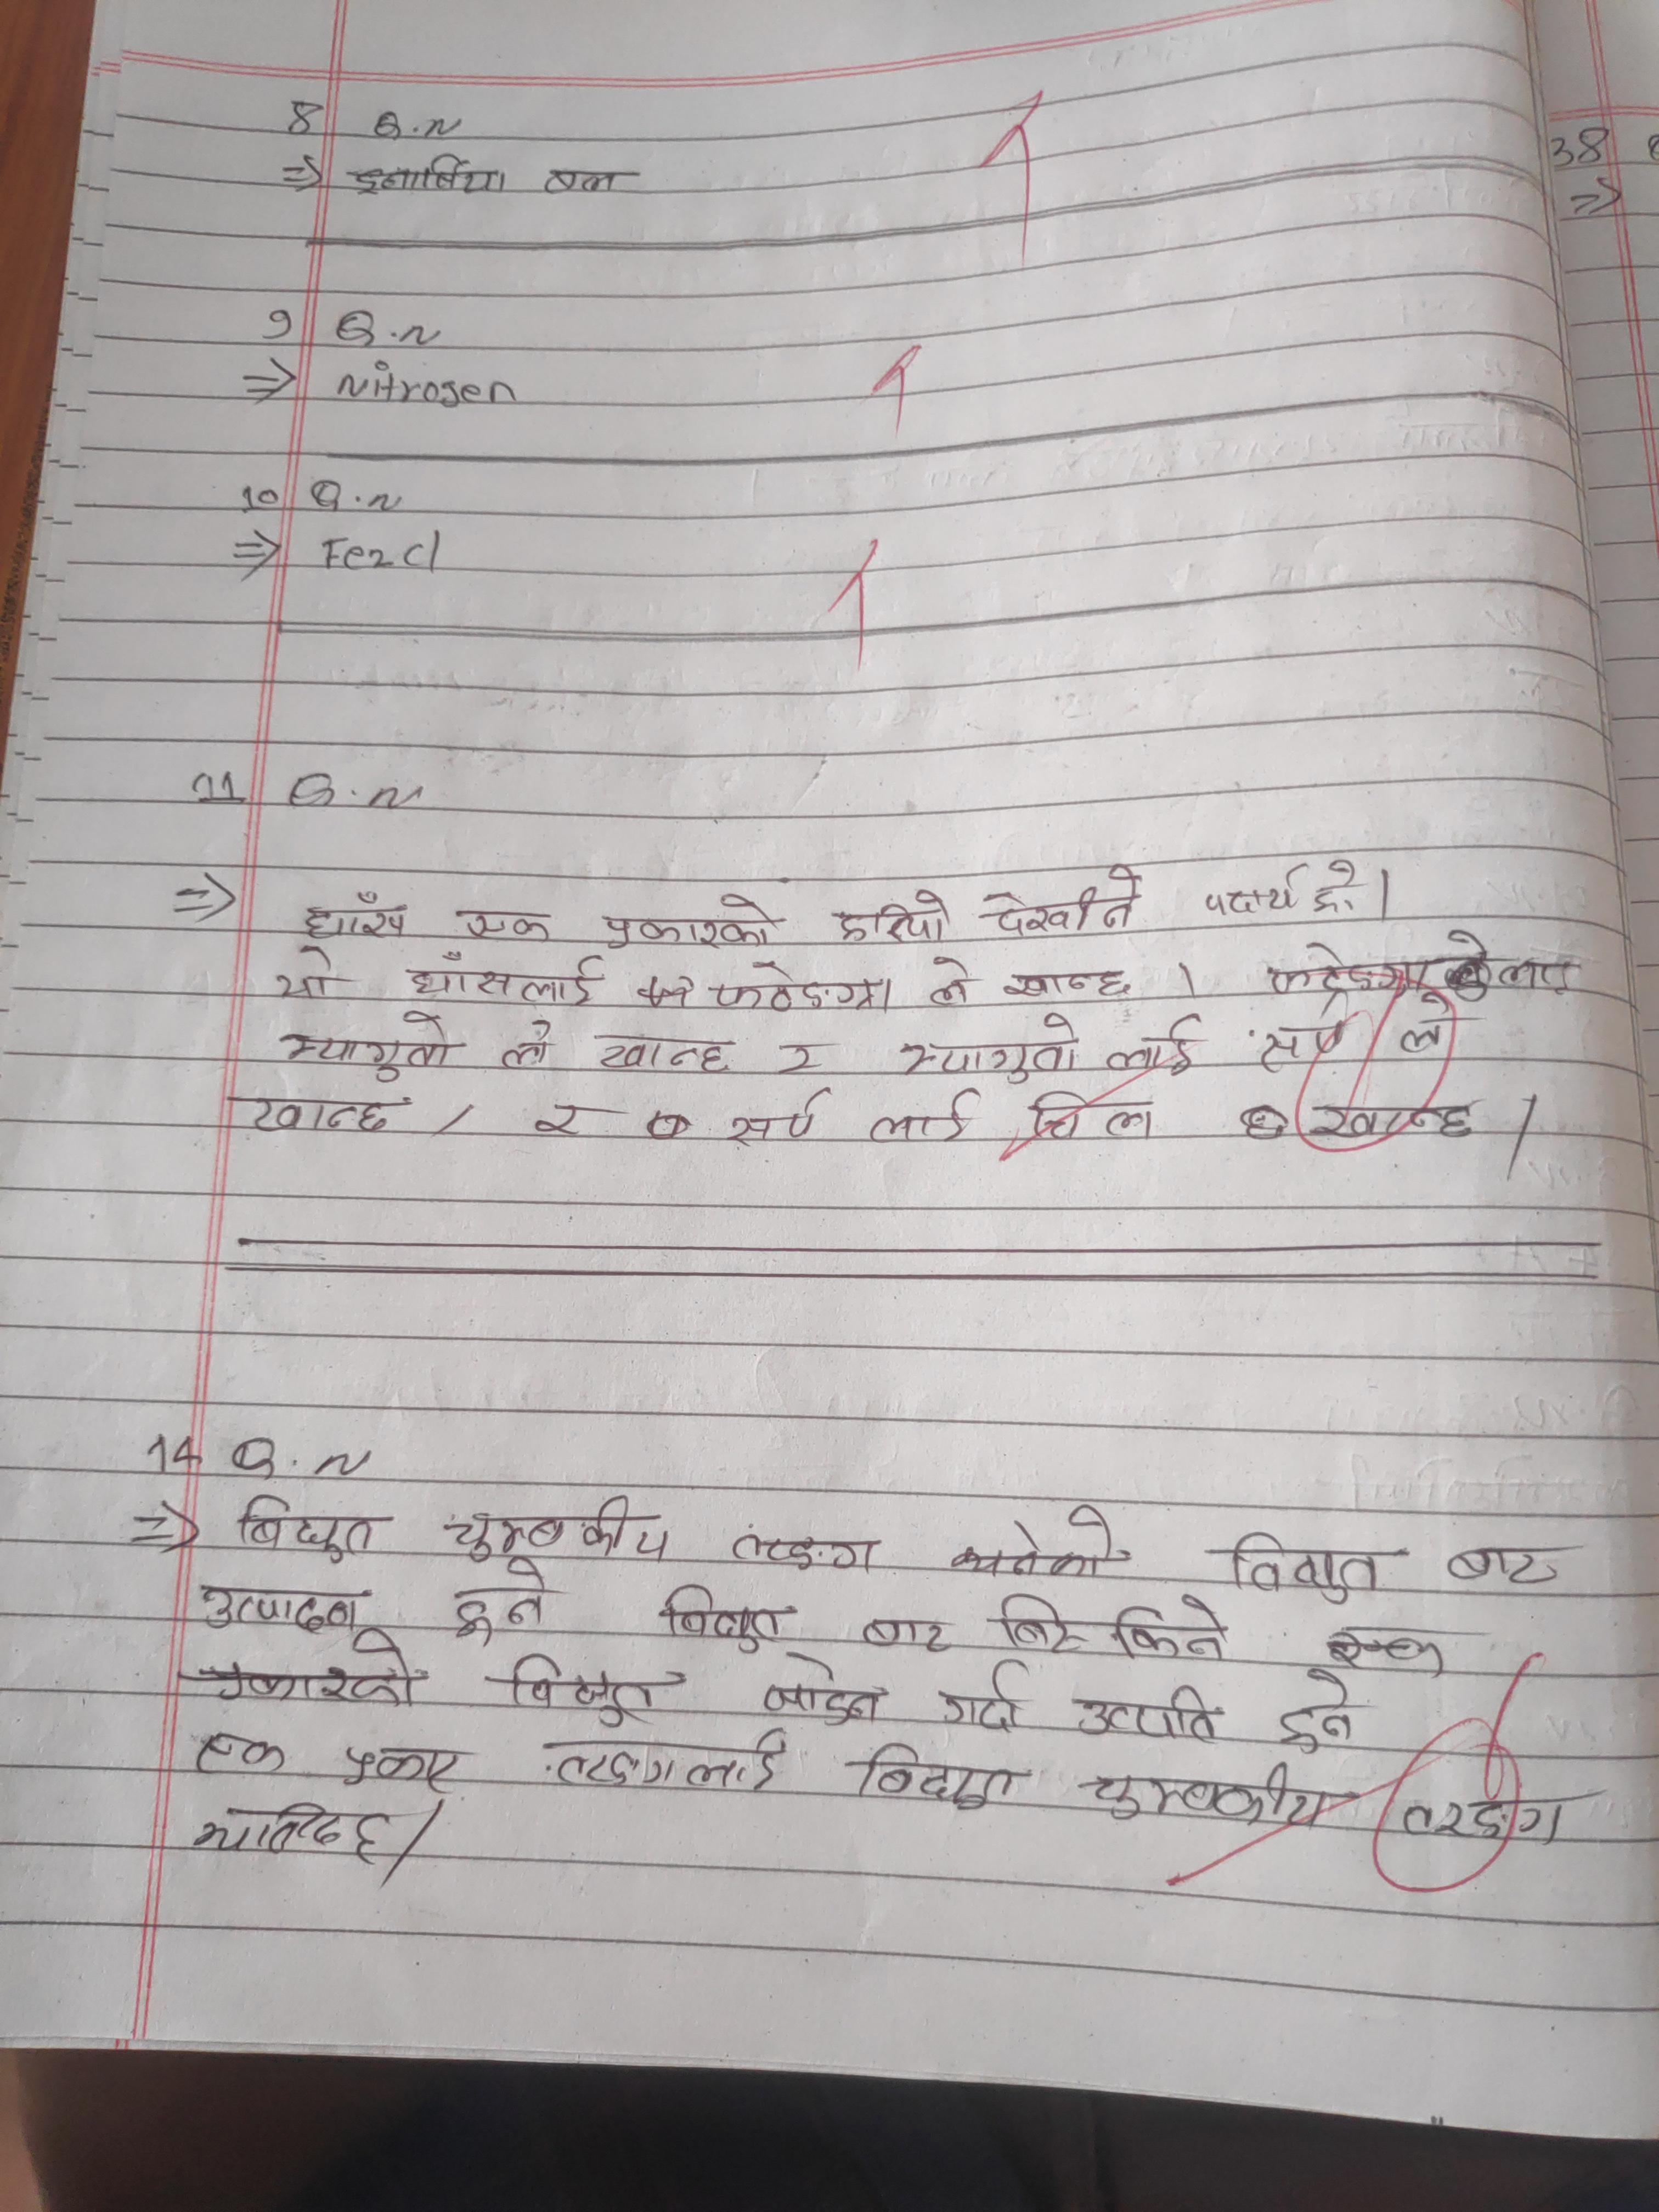text: (1263, 930, 1582, 995), (1086, 1761, 1345, 1831), (197, 1630, 423, 1709), (439, 1496, 676, 1564), (495, 1653, 687, 1731), (193, 1799, 394, 1871), (547, 1735, 788, 1794), (951, 1501, 1126, 1580), (894, 1014, 1080, 1087), (856, 1738, 1025, 1818), (1216, 1529, 1396, 1604), (279, 1010, 460, 1082), (406, 949, 601, 1010), (979, 860, 1141, 932), (601, 890, 777, 953), (1399, 1794, 1601, 1848), (237, 1496, 390, 1564), (706, 960, 892, 1014), (192, 1581, 366, 1639), (1075, 1683, 1222, 1749), (1114, 1588, 1232, 1669), (1304, 1097, 1485, 1150), (664, 1583, 795, 1655), (758, 1658, 889, 1728), (451, 1559, 552, 1642), (232, 1094, 413, 1139), (587, 1029, 741, 1080), (350, 152, 509, 200), (1025, 1089, 1159, 1146), (1265, 1669, 1359, 1750), (331, 1738, 467, 1792), (727, 1527, 878, 1575), (993, 1592, 1094, 1660), (1330, 1627, 1469, 1676), (1441, 1538, 1575, 1588), (836, 890, 951, 948), (723, 1089, 831, 1150), (941, 1656, 1028, 1731), (1107, 1015, 1213, 1076), (300, 890, 420, 942), (1204, 859, 1304, 921), (866, 1090, 974, 1148), (1256, 1019, 1351, 1076), (192, 1726, 289, 1778), (1004, 965, 1134, 1003), (540, 162, 647, 202), (850, 1618, 958, 1656), (275, 946, 350, 1000), (460, 904, 552, 948), (497, 1019, 558, 1073), (532, 1097, 606, 1139), (1403, 996, 1459, 1050), (924, 953, 974, 1008), (1314, 862, 1361, 914), (775, 1040, 830, 1082)
